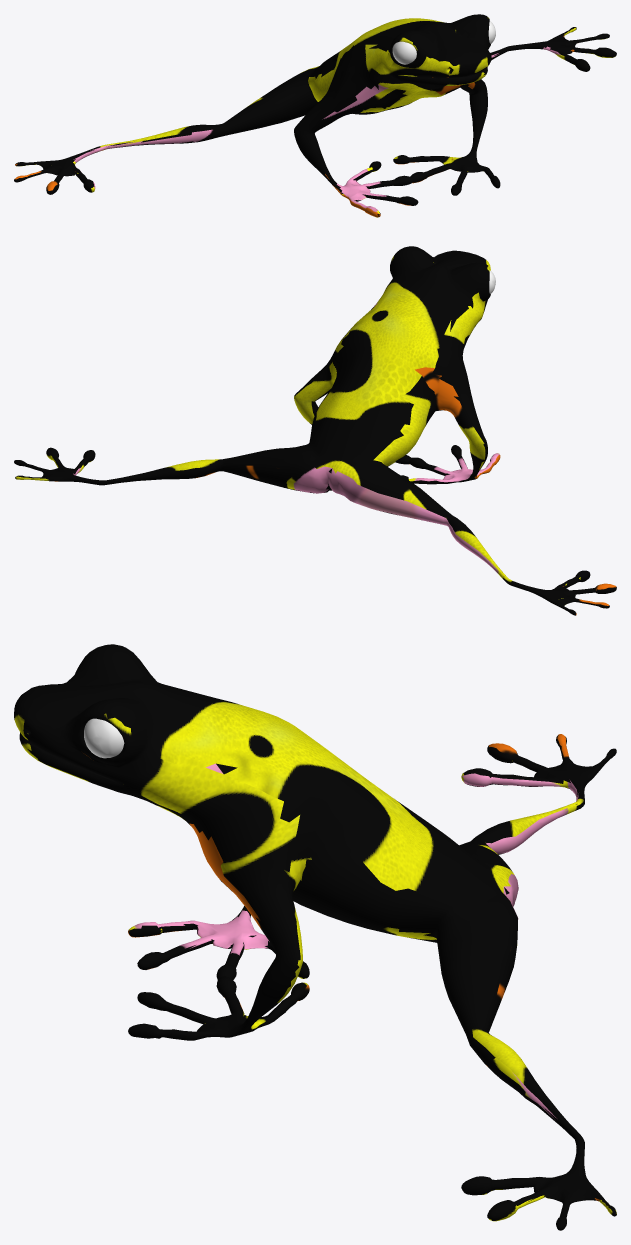
File: frogo.fbx
3 renders of one model, top to bottom at view 1: azimuth 30°, elevation 25°; view 2: azimuth 150°, elevation 25°; view 3: azimuth 270°, elevation 25°, orthographic. The views are drawn at different scales.
Parts seen in each view (by area): view 1: tree_frog; view 2: tree_frog; view 3: tree_frog.
Part boxes in pixels (x1,y1,x2,y2): tree_frog: [14, 14, 616, 217]; tree_frog: [14, 246, 616, 615]; tree_frog: [14, 644, 616, 1230].
Size of the model in its own units: 779 by 232 by 403.
